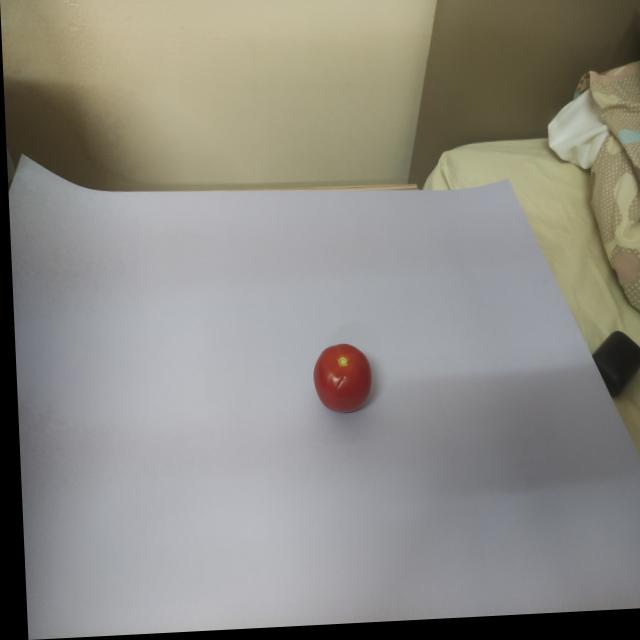kirmizi: (302, 318, 389, 429)
